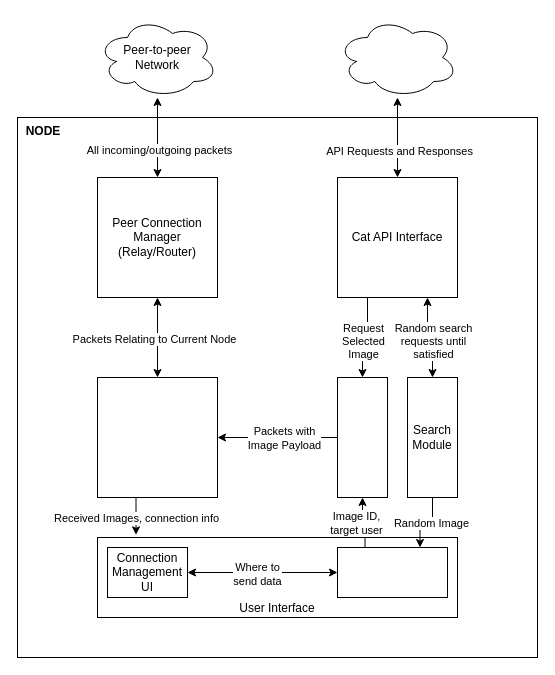
Some shapes in this 555 by 675 pixel diagram are drawn without their labels. Here are the shapes that lost their labels. From the top down, the centre of each, then its label:
At point 397,57: "Cat API".
At point 157,437: "Packet Mailroom".
At point 362,437: "Image Delivery Module".
At point 392,572: "Search and Send UI".
